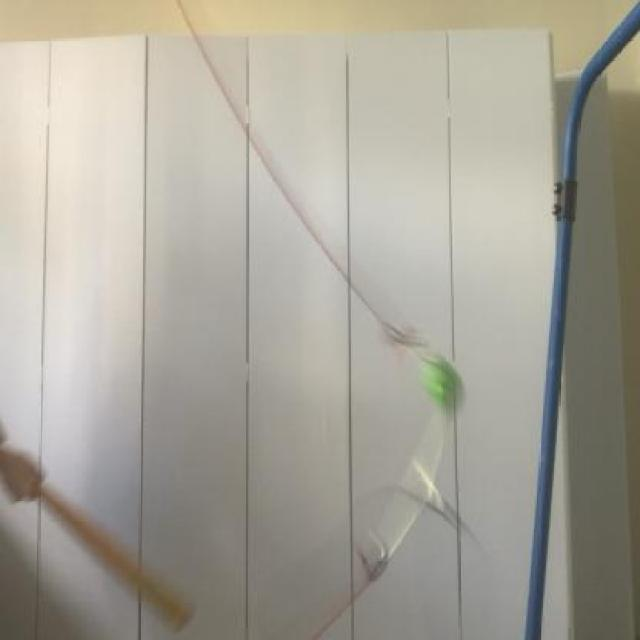baseball: (417, 338, 465, 416)
